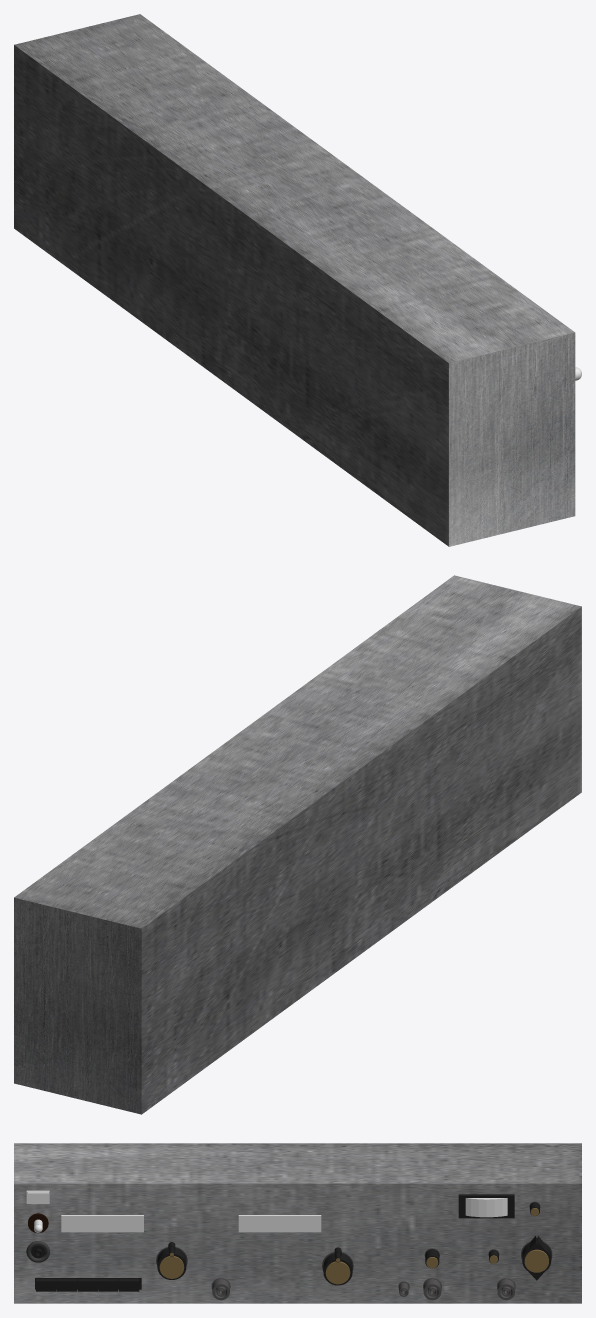
File: генераторсвч222.fbx
3 views of the same model, one above another, from view 1: azimuth 30°, elevation 25°; view 2: azimuth 150°, elevation 25°; view 3: azimuth 270°, elevation 25° (orthographic). The views are drawn at different scales.
Visible parts, largest first — view 1: Cube; view 2: Cube; view 3: Cube, Cube.002, Cube.001, Cube.012, Cylinder.043, Cylinder.017, Cylinder.031, Cube.011, Cube.005, Cube.006, Cube.007, Cube.008 (+8 smaller).
Part boxes in pixels (x1,y1,x2,y2): Cube: (14,14,575,546); Cube: (14,575,581,1114); Cube: (14,1143,581,1303); Cube.002: (238,1215,321,1232); Cube.001: (61,1215,143,1232); Cube.012: (522,1236,551,1280); Cylinder.043: (323,1247,352,1285); Cylinder.017: (157,1242,186,1279); Cylinder.031: (465,1198,507,1217); Cube.011: (458,1194,514,1218); Cube.005: (77,1278,97,1291); Cube.006: (98,1278,118,1291); Cube.007: (36,1278,56,1291); Cube.008: (56,1278,76,1291).
Bounding box in the file's own units: 116 × 130 × 558.
